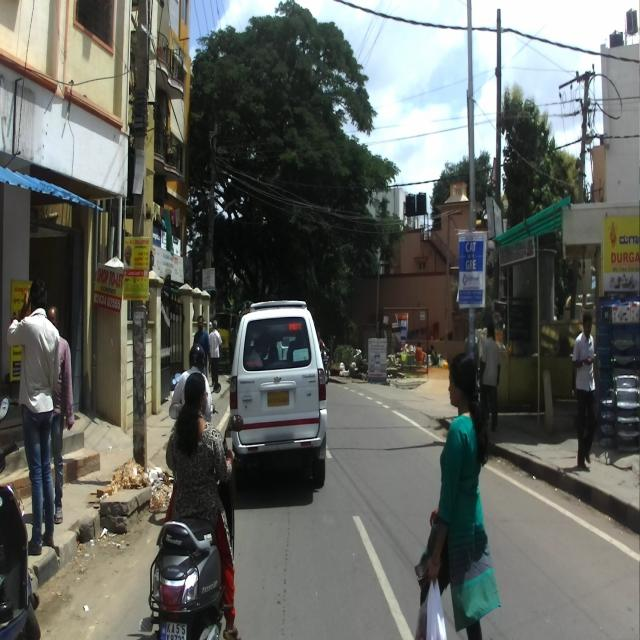Car_Chevrolet: (228, 297, 328, 489)
scooter: (137, 409, 245, 639)
